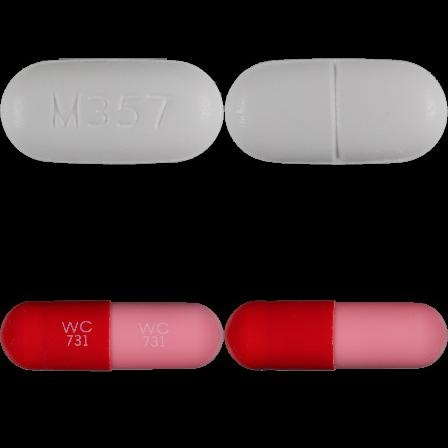67046-926: (0, 0, 224, 224)
